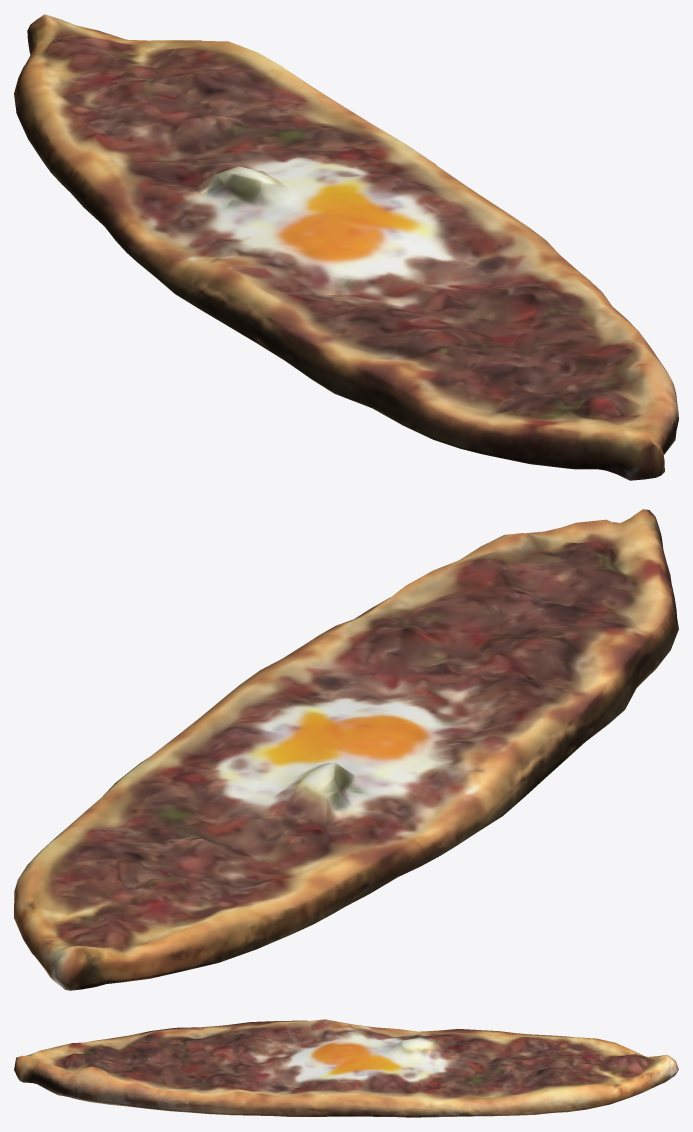
The model's file is pie2.fbx.
The picture shows the model from 3 angles, top to bottom: view 1: azimuth 30°, elevation 25°; view 2: azimuth 150°, elevation 25°; view 3: azimuth 270°, elevation 25°; orthographic projection. The views are drawn at different scales.
Visible parts, largest first — view 1: Object_2.001; view 2: Object_2.001; view 3: Object_2.001.
Boxes of the visible parts, x1=… form: Object_2.001: x1=14, y1=14, x2=678, y2=480; Object_2.001: x1=14, y1=509, x2=678, y2=990; Object_2.001: x1=14, y1=1019, x2=678, y2=1117.
Size of the model in its own units: 17.16 by 2.83 by 57.31.
1 material, 1 textured.
